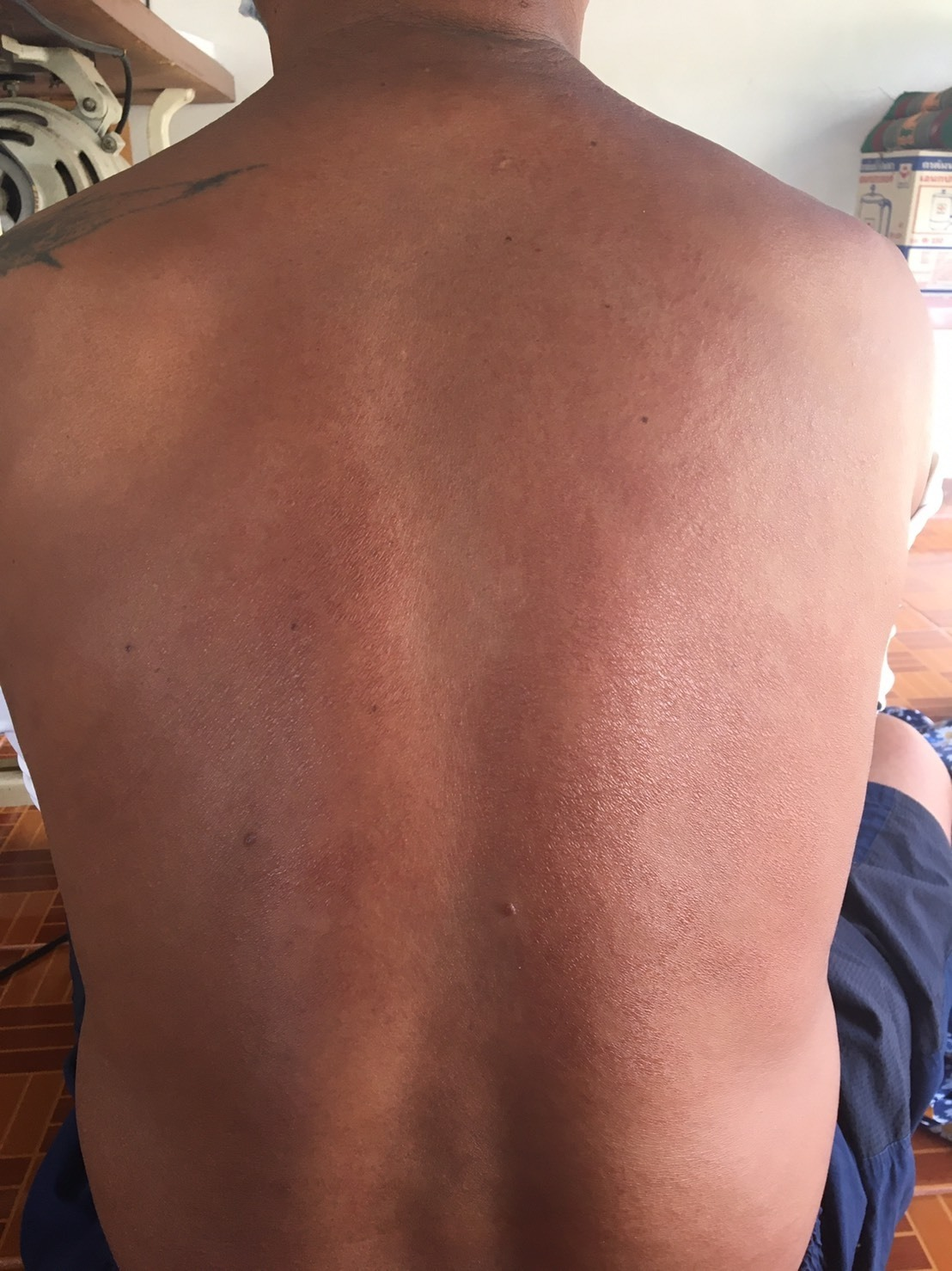Leprosy: (64, 419, 552, 1068), (8, 241, 238, 531)
